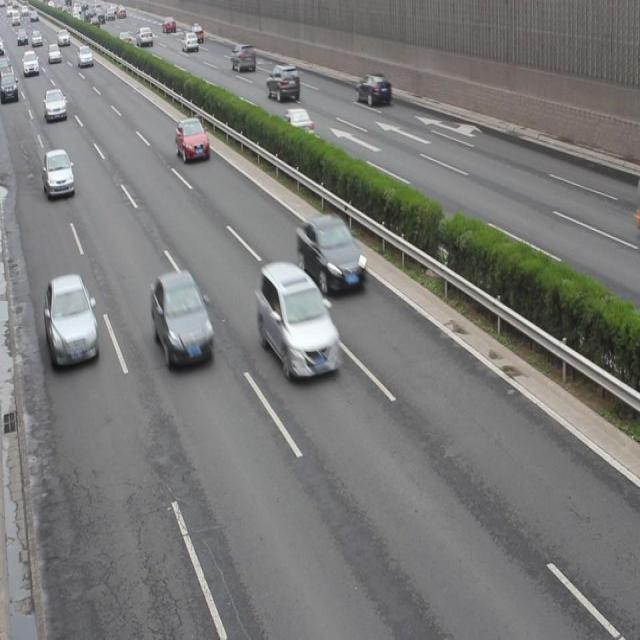car: (256, 262, 342, 378), (151, 270, 215, 369), (296, 213, 366, 293), (44, 274, 99, 368), (176, 116, 210, 166), (44, 147, 75, 201), (355, 70, 391, 110), (266, 62, 301, 103), (276, 106, 314, 143), (45, 88, 68, 122)
